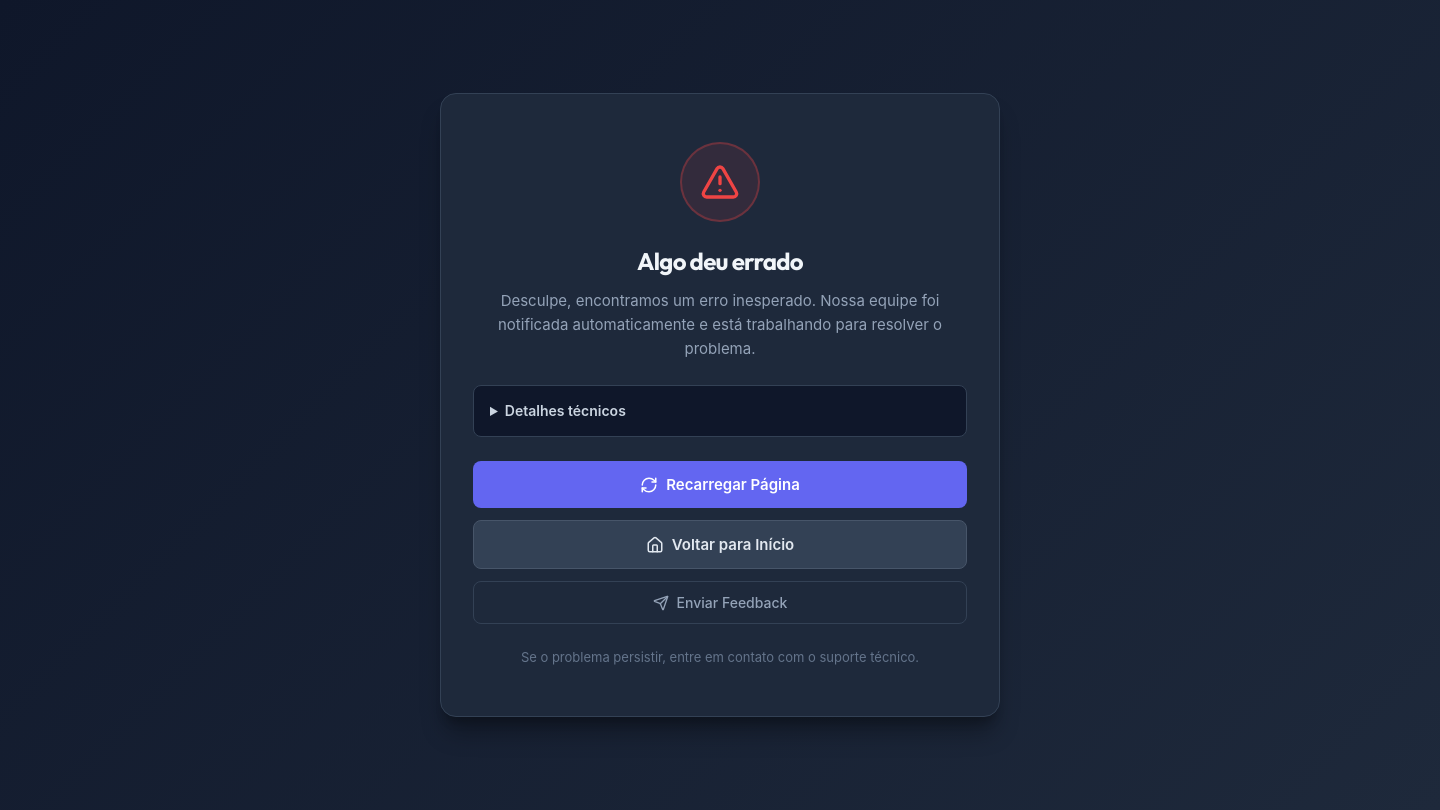
Test: SentryErrorFallback › should show feedback sent confirmation after clicking feedback button
Click the button "Enviar Feedback" at (720, 603), box [473,581,967,624]
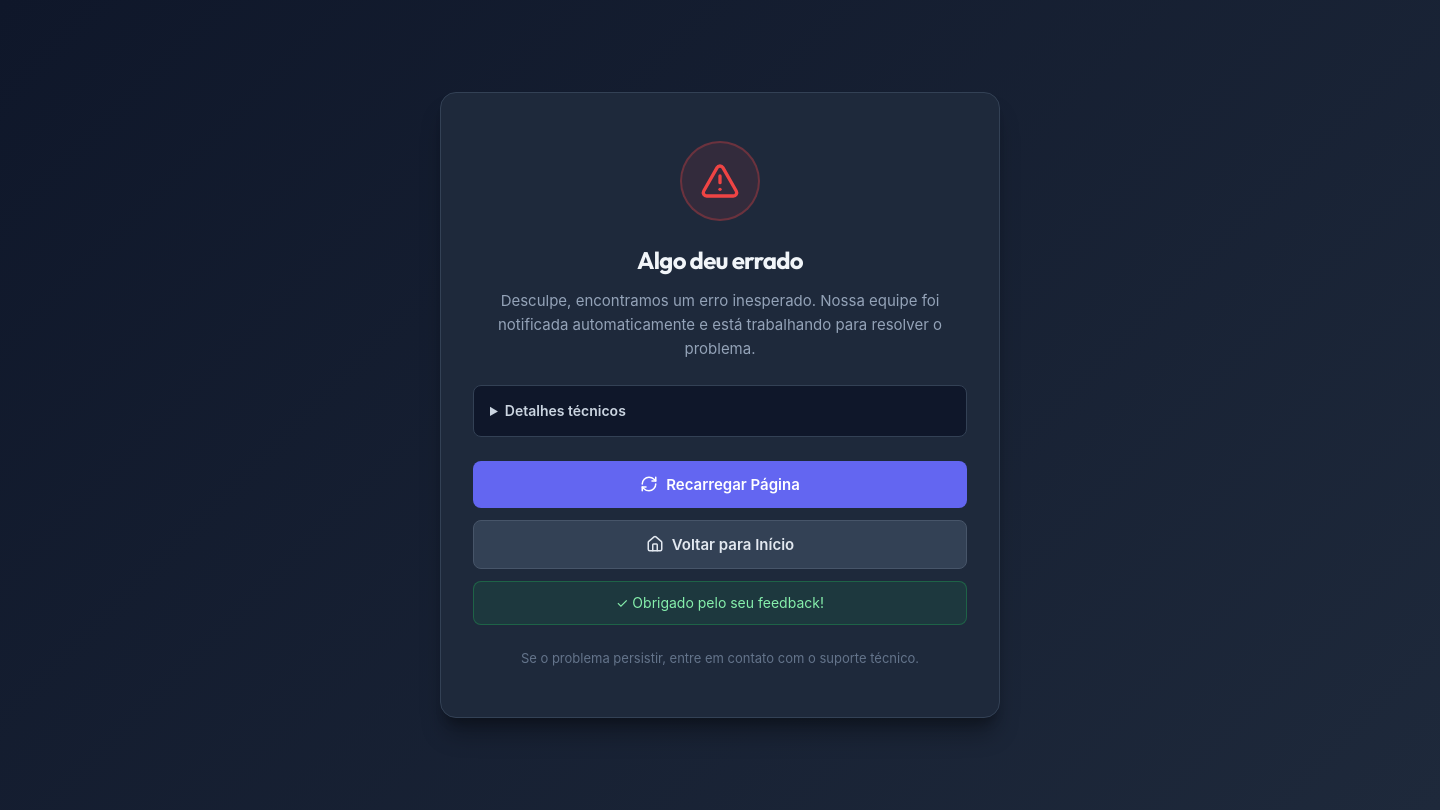
Expected: the text "✓ Obrigado pelo seu feedback!" is shown, [473,581,967,625]
